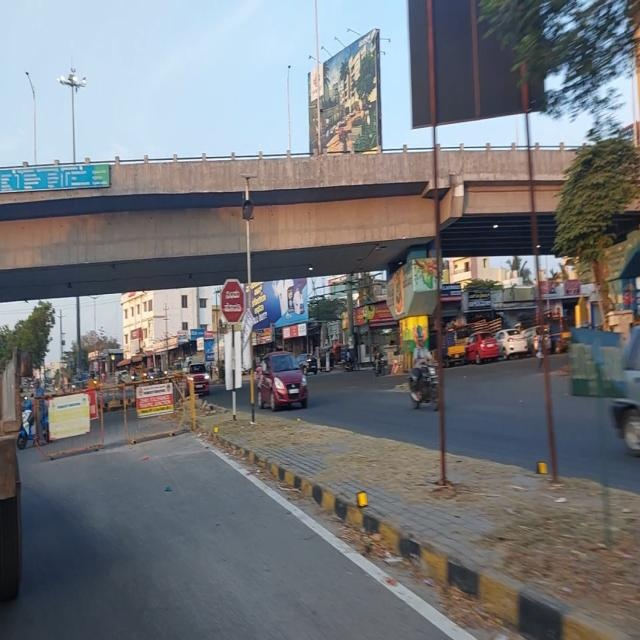bien_chi_dan: (219, 277, 246, 324)
